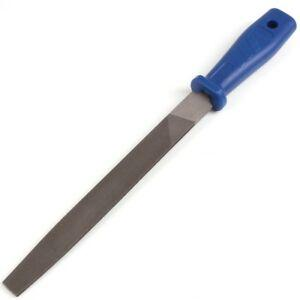Files: (2, 2, 300, 300)
